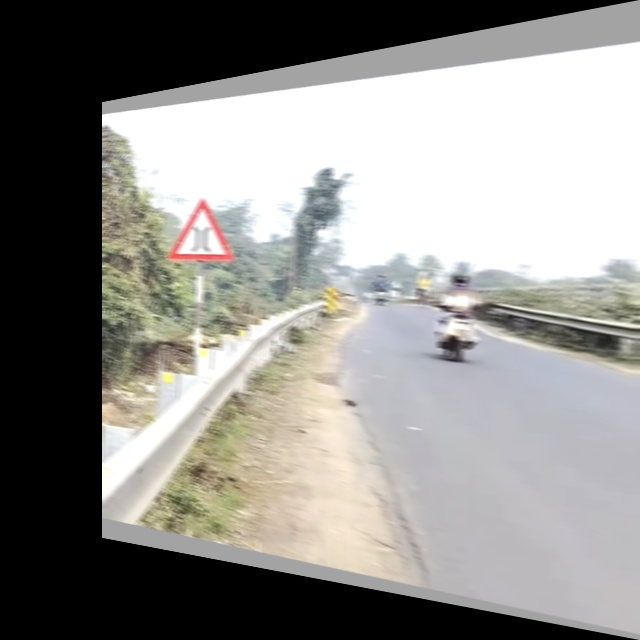Narrow_Bridge: (171, 193, 236, 265)
